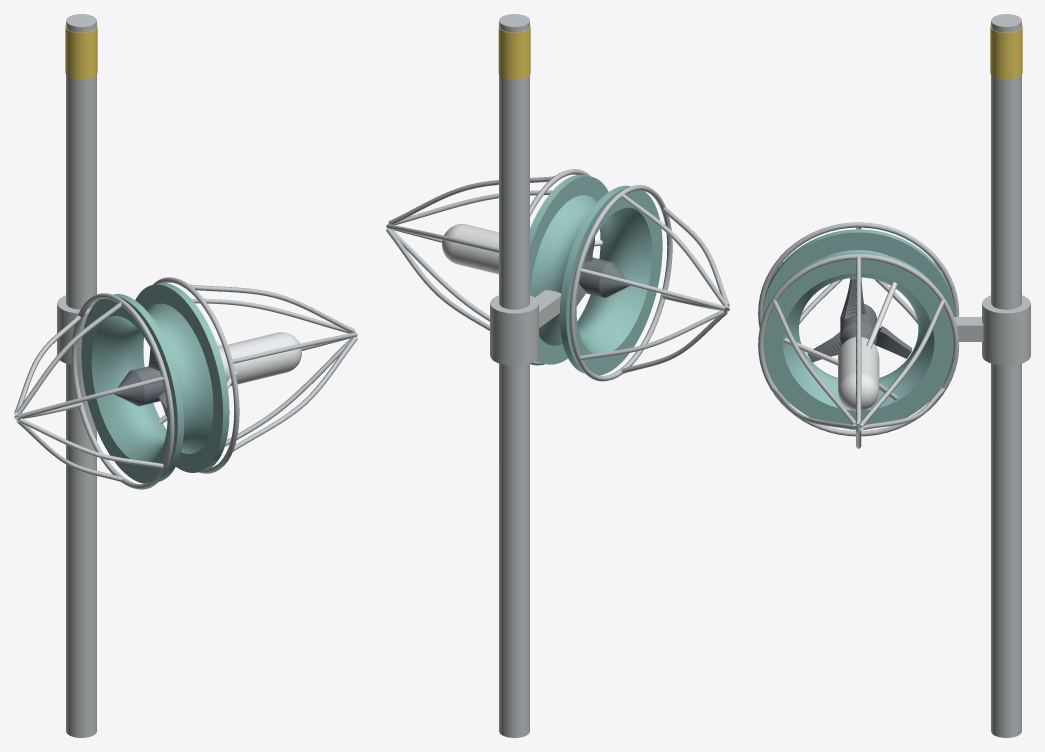
Rendered from sulog_mvp.glb.
3 views of the same model, side by side, from view 1: azimuth 30°, elevation 25°; view 2: azimuth 150°, elevation 25°; view 3: azimuth 270°, elevation 25° (orthographic).
Parts seen in each view (by area): view 1: pile, duct, cageW, cageE, nacelle, rotor; view 2: pile, duct, cageW, cageE, nacelle, rotor; view 3: pile, duct, cageE, nacelle, cageW, rotor.
Boxes of the visible parts, x1,y1,x2,y2 form: pile: (57, 14, 98, 737); duct: (81, 283, 229, 483); cageW: (14, 293, 174, 489); cageE: (153, 277, 357, 473); nacelle: (158, 332, 301, 423); rotor: (114, 348, 167, 417); pile: (490, 14, 560, 737); duct: (530, 174, 662, 375); cageW: (569, 185, 729, 381); cageE: (386, 169, 590, 365); nacelle: (442, 224, 602, 274); rotor: (576, 237, 629, 306); pile: (954, 14, 1030, 737); duct: (762, 229, 954, 427); cageE: (758, 254, 959, 448); nacelle: (784, 282, 897, 410); cageW: (758, 222, 959, 328); rotor: (807, 277, 912, 362).
Size of the model in its own units: 3.04 by 6.1 by 2.12.
2 materials, 2 textured.
